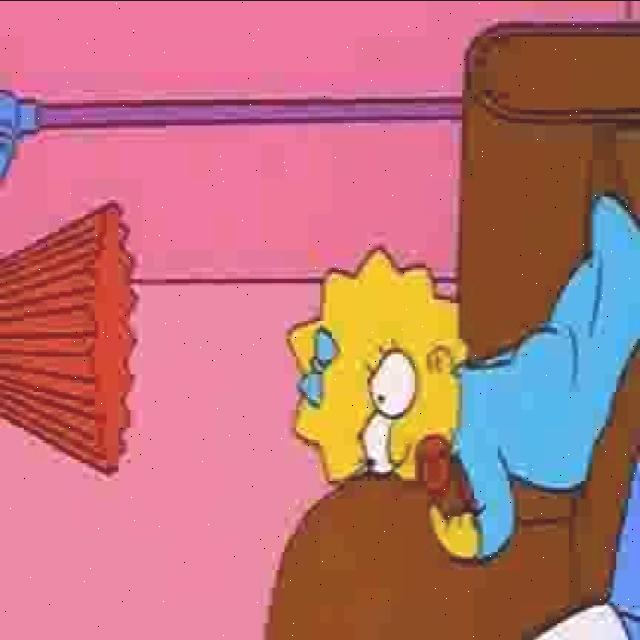Maggie Simpson: (286, 240, 470, 498)
